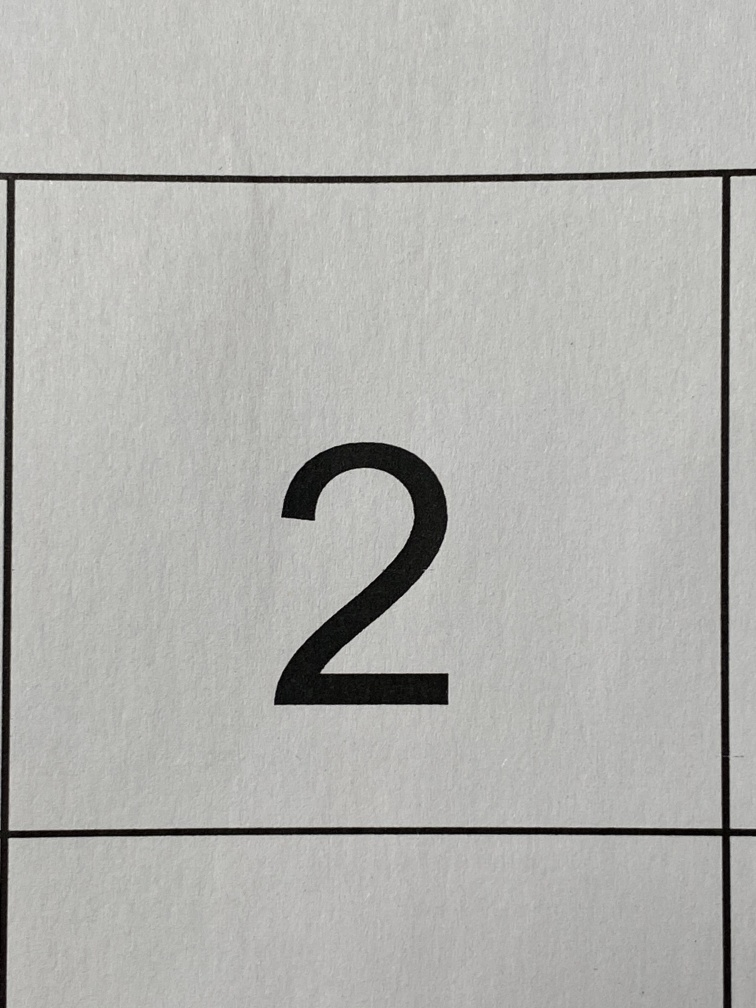two: (238, 400, 491, 786)
